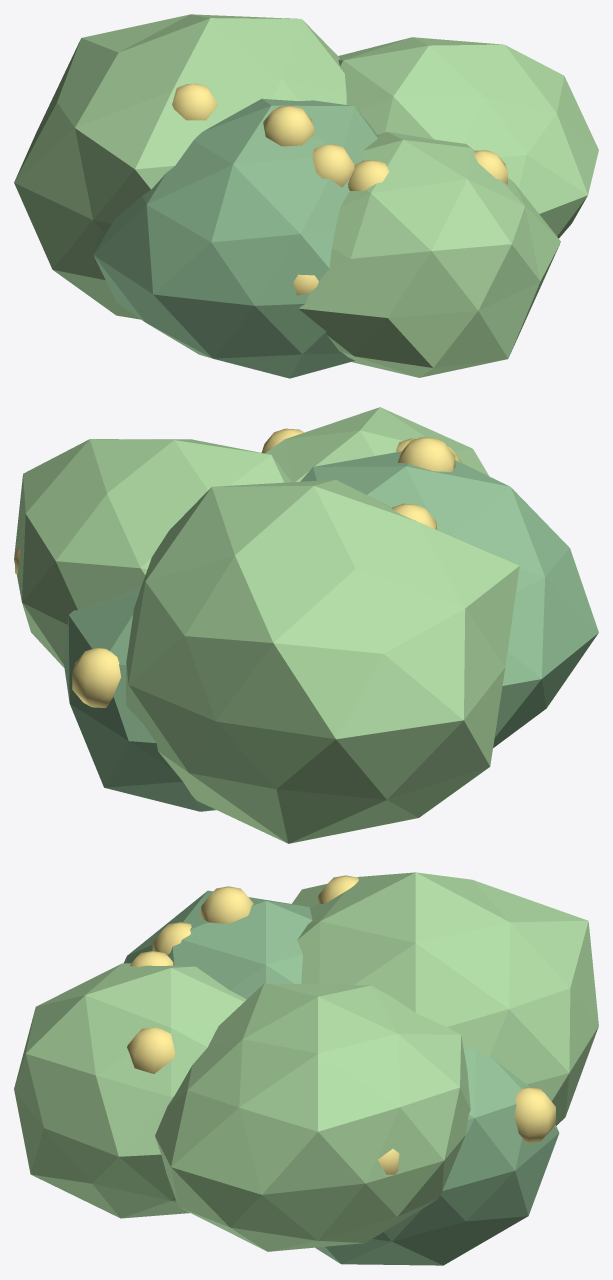
Rendered from bush_flower_yellow.glb.
3 views of the same model, one above another, from view 1: azimuth 30°, elevation 25°; view 2: azimuth 150°, elevation 25°; view 3: azimuth 270°, elevation 25° (orthographic). The views are drawn at different scales.
Visible parts, largest first — view 1: bush_flower_yellow; view 2: bush_flower_yellow; view 3: bush_flower_yellow.
Boxes of the visible parts, x1,y1,x2,y2 form: bush_flower_yellow: (14,14,598,378); bush_flower_yellow: (14,407,598,843); bush_flower_yellow: (14,872,598,1265).
Size of the model in its own units: 1.2 by 0.7256 by 1.21.
